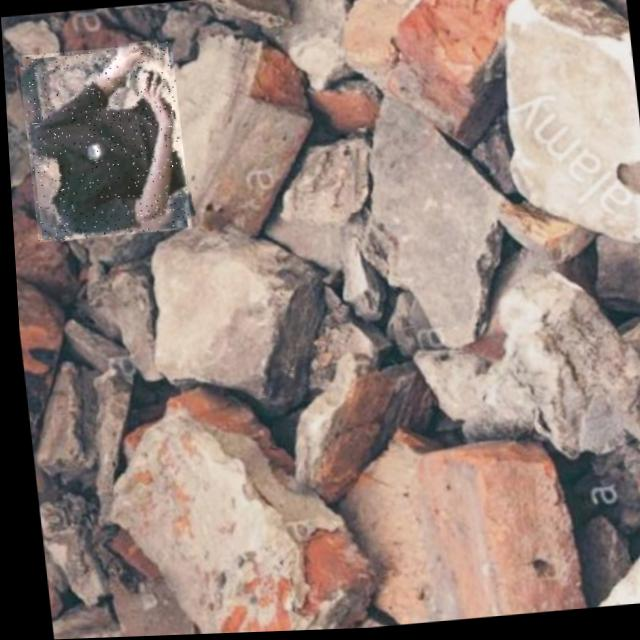Person in Rubble: (17, 41, 190, 242)
